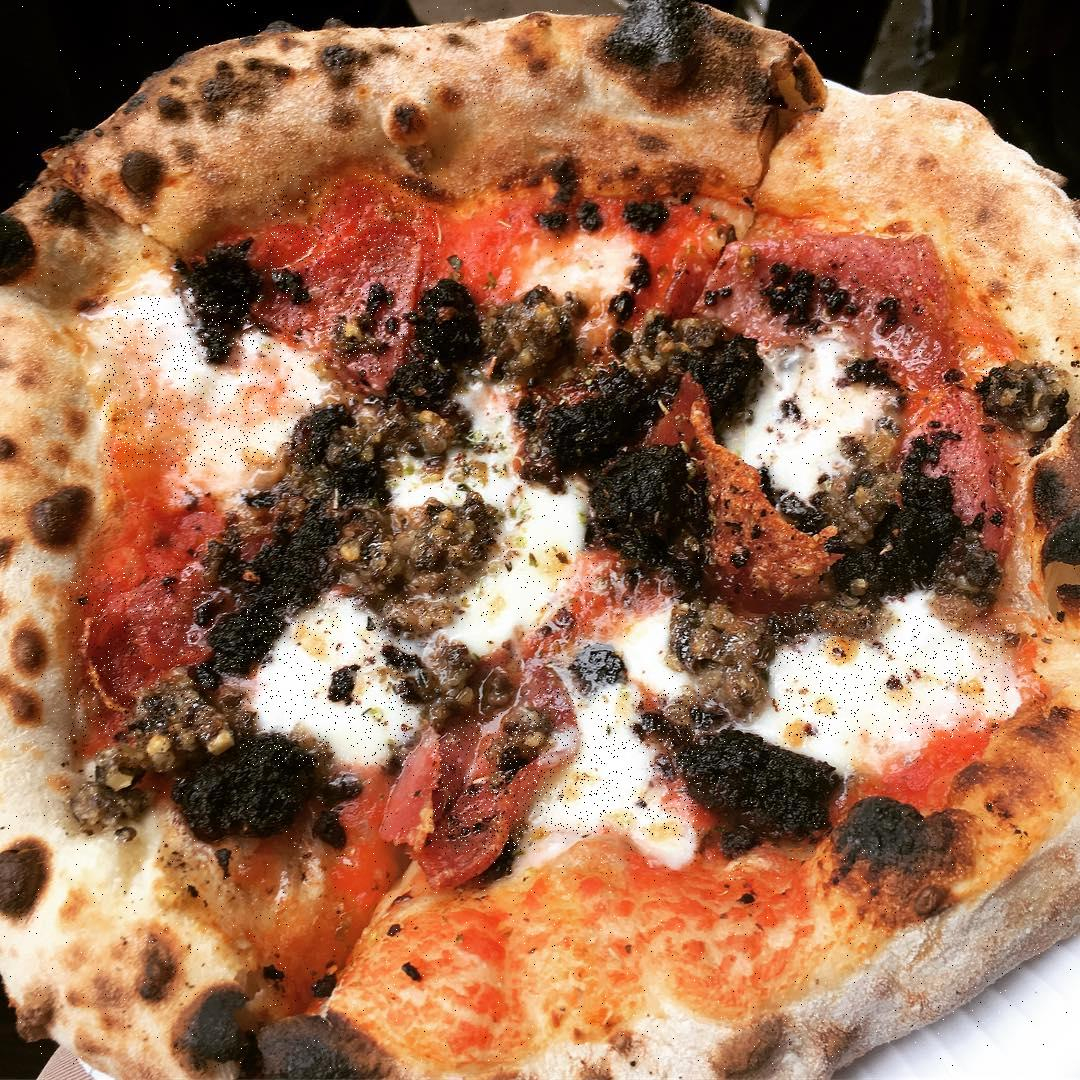Cheese: (103, 295, 315, 468), (241, 595, 413, 766), (776, 613, 1011, 738), (420, 468, 596, 630), (538, 688, 699, 836), (746, 356, 871, 476)
Ham: (796, 233, 1011, 511), (266, 176, 440, 374), (68, 563, 213, 740), (430, 716, 540, 854)
Pizza: (3, 3, 1080, 1070)
